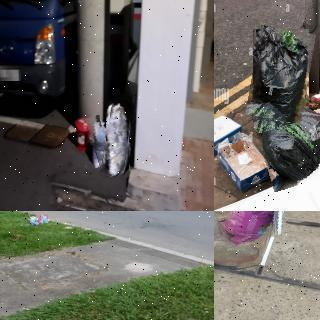Garbage: (249, 28, 313, 124), (256, 98, 320, 187), (214, 211, 285, 247), (103, 100, 132, 177), (292, 15, 320, 86), (88, 115, 111, 169), (29, 215, 44, 226), (38, 214, 48, 223)
